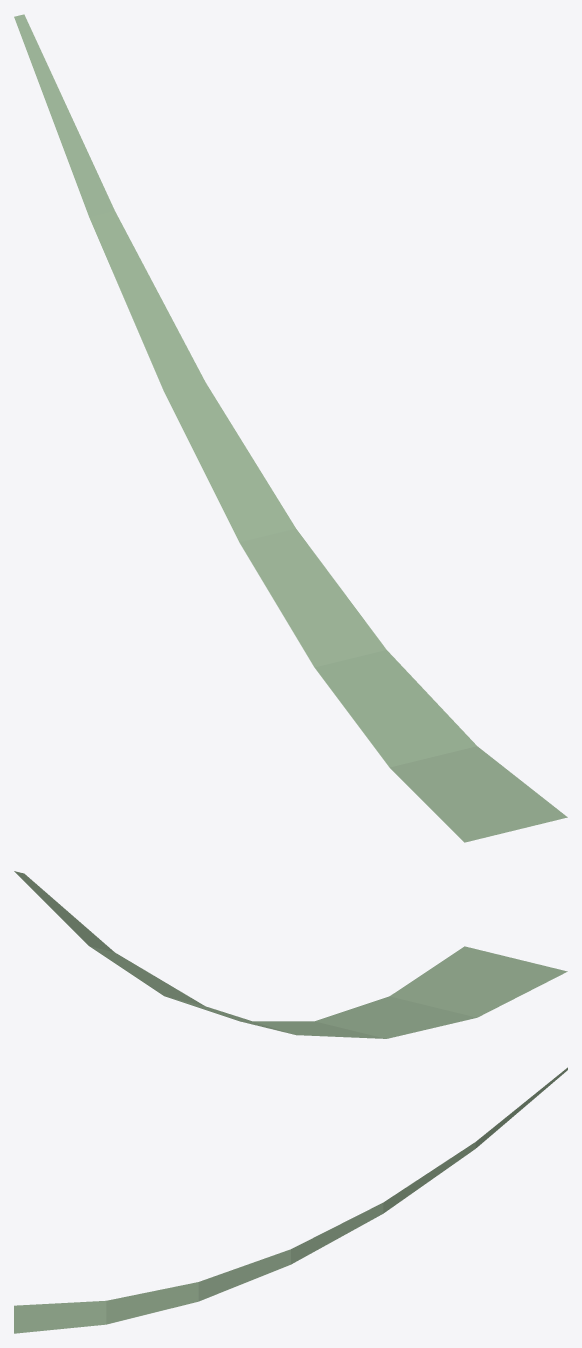
Rendered from Grass_A.glb.
The picture shows the model from 3 angles, top to bottom: view 1: azimuth 30°, elevation 25°; view 2: azimuth 150°, elevation 25°; view 3: azimuth 270°, elevation 25°; orthographic projection. The views are drawn at different scales.
Visible parts, largest first — view 1: Grass_A; view 2: Grass_A; view 3: Grass_A.
Part boxes in pixels (<box>): Grass_A: <box>14,14,567,842</box>; Grass_A: <box>14,871,567,1038</box>; Grass_A: <box>14,1067,567,1333</box>.
Size of the model in its own units: 0.12 by 0.5 by 1.
